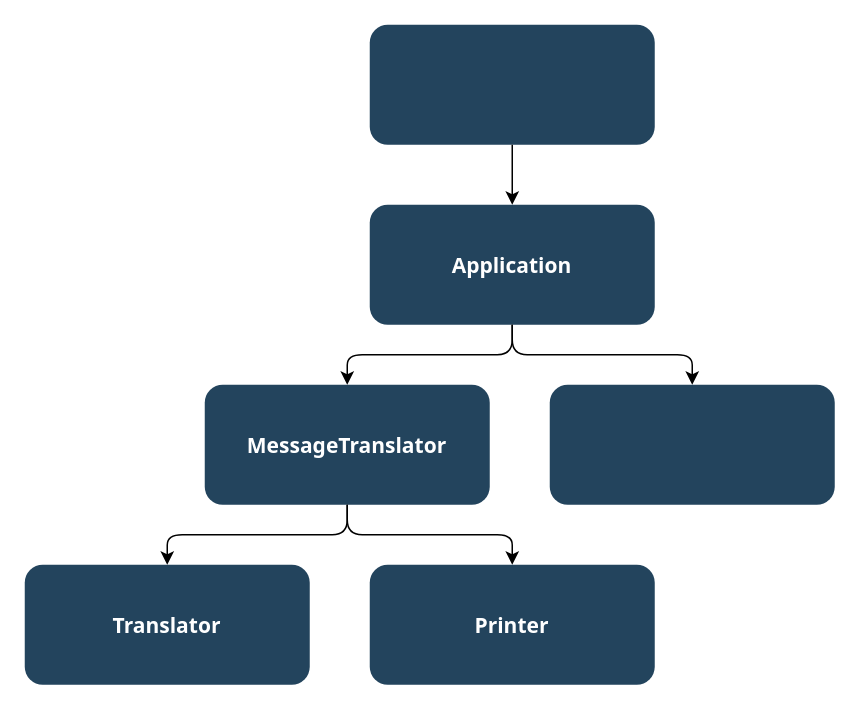
Image size: 860x710. Some labels were removed from this diagram. The centre of each missing label's shape, as x and y in pixels:
"InputListener" goes at point 691,444.
"main()" goes at point 511,84.
